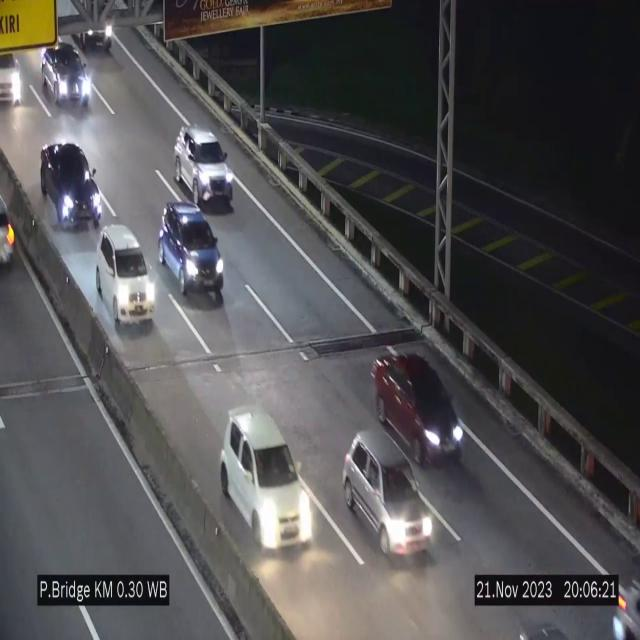Car: (342, 428, 440, 564), (221, 409, 311, 549), (374, 353, 464, 466), (158, 202, 224, 304), (95, 225, 156, 331), (42, 138, 102, 234), (174, 122, 233, 207), (42, 45, 95, 114), (0, 42, 32, 106)
